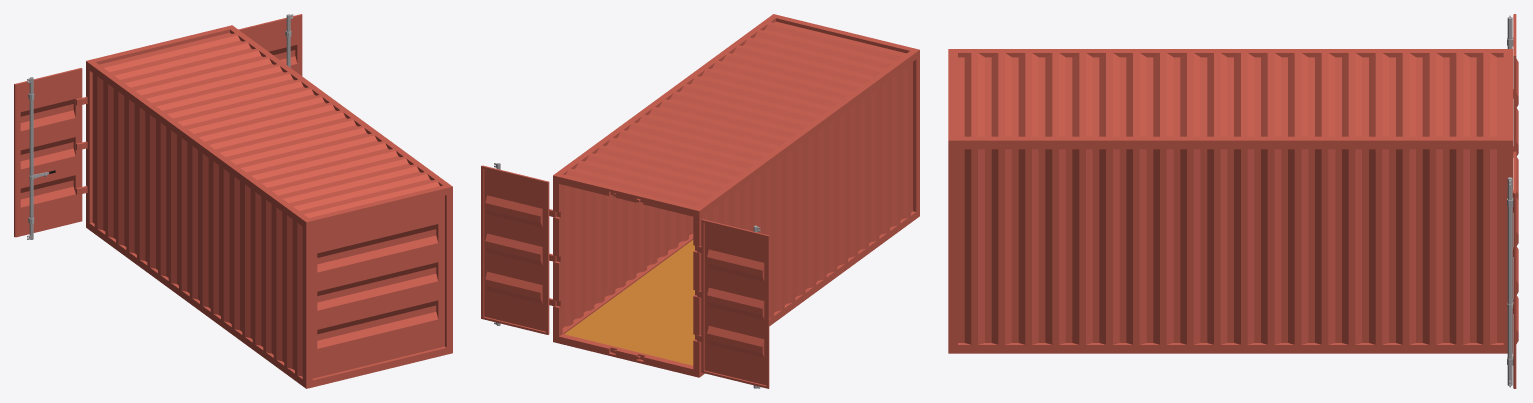
File: red_container.dae
The picture shows the model from 3 angles, left to right: view 1: azimuth 30°, elevation 25°; view 2: azimuth 150°, elevation 25°; view 3: azimuth 270°, elevation 25°; orthographic projection. The views are drawn at different scales.
Visible parts, largest first — view 1: container; view 2: container; view 3: container.
Boxes of the visible parts, <box> form: container: <box>14,14,452,388</box>; container: <box>481,14,919,388</box>; container: <box>948,14,1518,388</box>.
Size of the model in its own units: 4.52 by 6.06 by 2.5.
